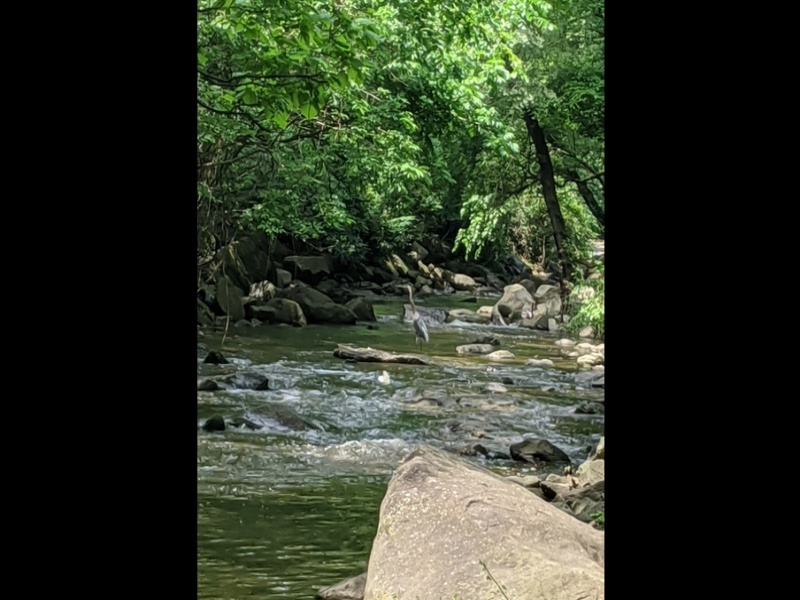heron: (395, 279, 432, 348)
